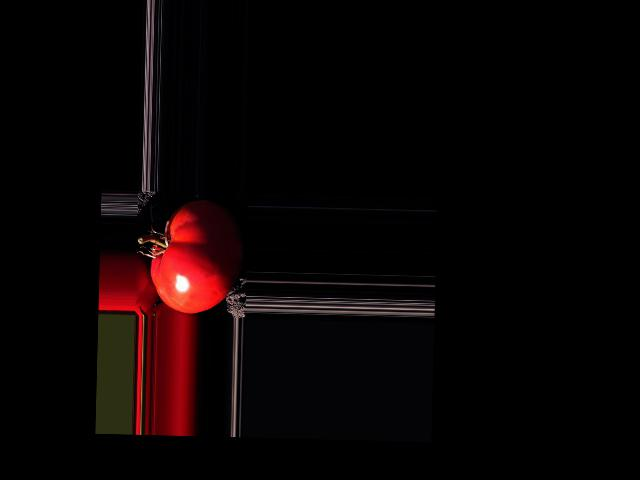tomato: (150, 198, 244, 314)
